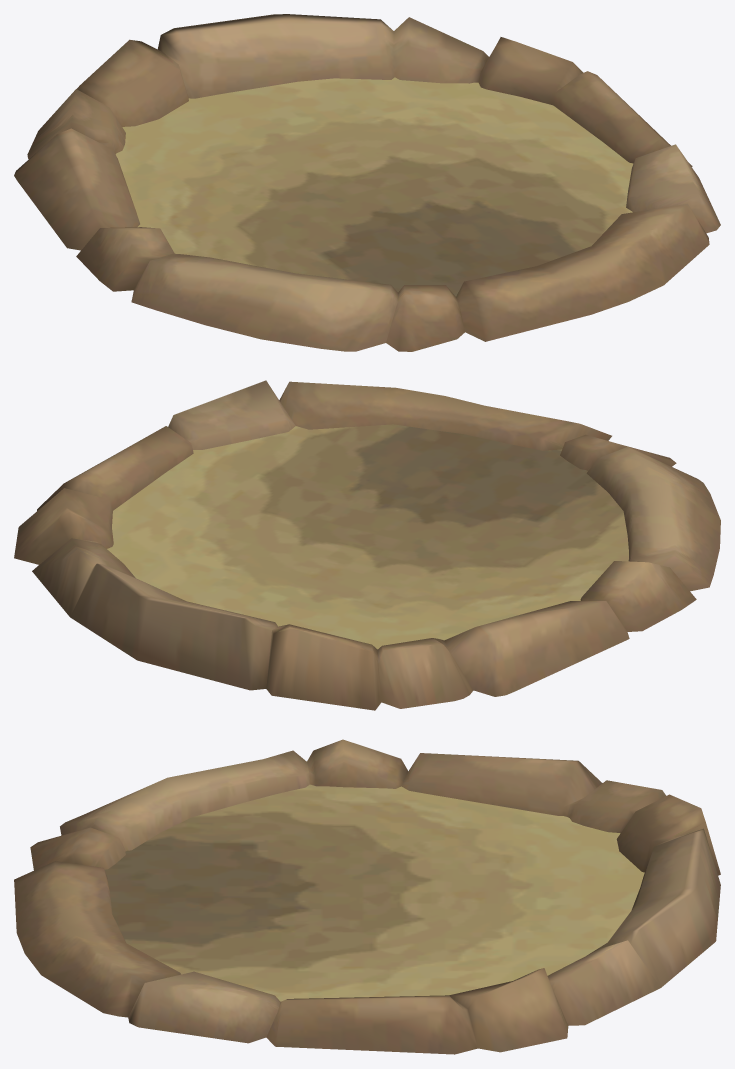
The model's file is UnitIconHoleOn.glb.
The picture shows the model from 3 angles, top to bottom: view 1: azimuth 30°, elevation 25°; view 2: azimuth 150°, elevation 25°; view 3: azimuth 270°, elevation 25°; orthographic projection. The views are drawn at different scales.
Visible parts, largest first — view 1: pPlane24__mUnitIconHoleON, pPlane4__mUnitIconHoleON; view 2: pPlane4__mUnitIconHoleON, pPlane24__mUnitIconHoleON; view 3: pPlane4__mUnitIconHoleON, pPlane24__mUnitIconHoleON.
Part boxes in pixels (left/top/right/bottom): pPlane24__mUnitIconHoleON: left=14, top=14, right=720, bottom=351; pPlane4__mUnitIconHoleON: left=115, top=77, right=633, bottom=296; pPlane4__mUnitIconHoleON: left=107, top=424, right=628, bottom=649; pPlane24__mUnitIconHoleON: left=14, top=380, right=720, bottom=710; pPlane4__mUnitIconHoleON: left=105, top=784, right=644, bottom=1001; pPlane24__mUnitIconHoleON: left=14, top=739, right=720, bottom=1054.
Size of the model in its own units: 8.95 by 0.8949 by 9.27.
1 material, 1 textured.
